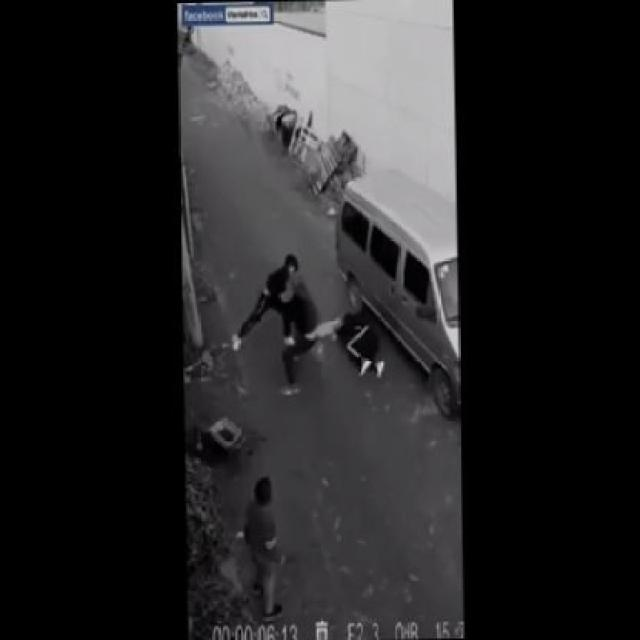fight: (223, 249, 328, 397)
non-fight: (228, 474, 292, 621), (303, 310, 386, 377)
